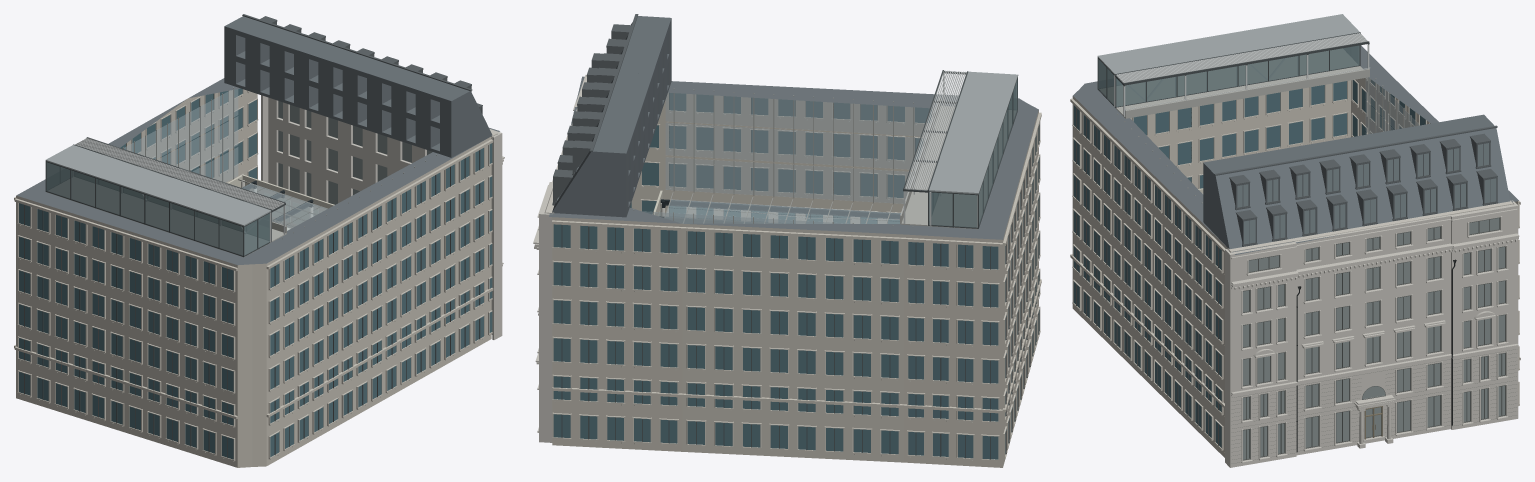
The model's file is ckk-exterior-c47828e97b9d.glb.
3 views of the same model, side by side, from view 1: azimuth 30°, elevation 25°; view 2: azimuth 150°, elevation 25°; view 3: azimuth 270°, elevation 25° (orthographic). The views are drawn at different scales.
Parts seen in each view (by area): view 1: CKK.001; view 2: CKK.001; view 3: CKK.001.
Boxes of the visible parts, x1,y1,x2,y2 form: CKK.001: [14, 14, 504, 467]; CKK.001: [533, 14, 1041, 467]; CKK.001: [1070, 14, 1520, 467].
Bounding box in the file's own units: 56.1 × 32.3 × 47.89.
